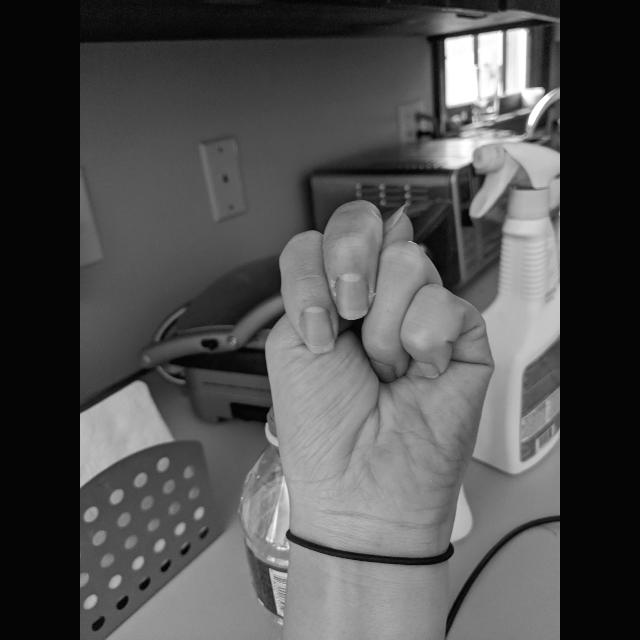N: (261, 194, 499, 530)
